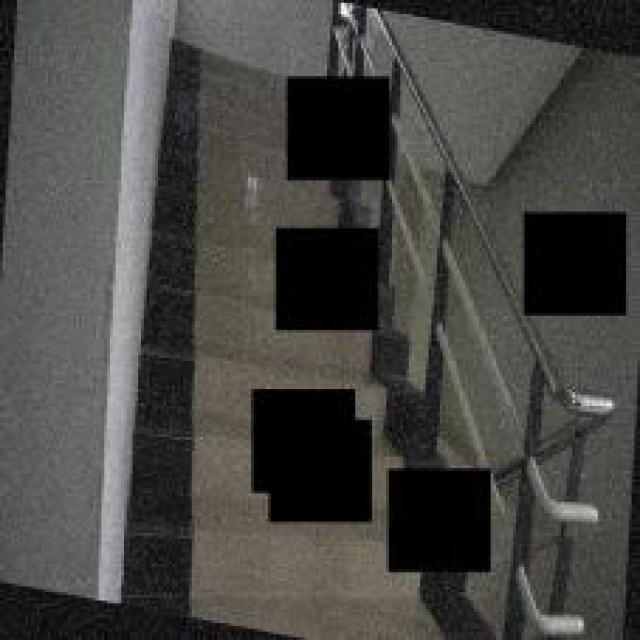upstair: (166, 36, 276, 378)
